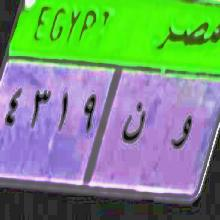1: (57, 89, 71, 136)
3: (29, 81, 51, 137)
4: (3, 81, 22, 132)
9: (81, 89, 97, 136)
noon: (120, 102, 146, 146)
waw: (172, 109, 191, 162)
